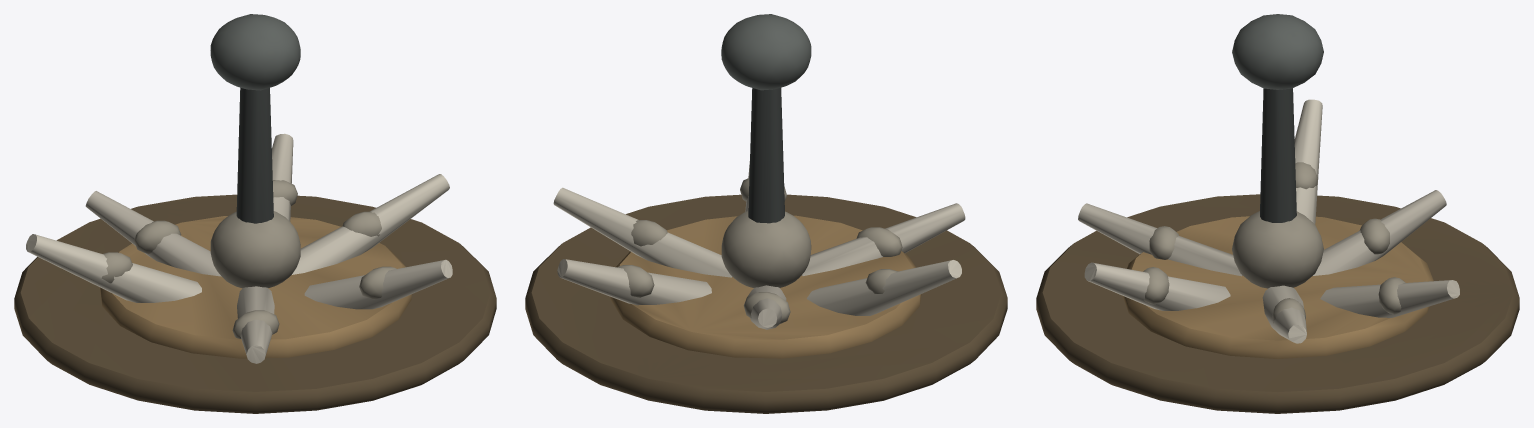
File: fulgurite_a.glb
The picture shows the model from 3 angles, left to right: view 1: azimuth 30°, elevation 25°; view 2: azimuth 150°, elevation 25°; view 3: azimuth 270°, elevation 25°; orthographic projection.
Visible parts, largest first — view 1: Surface; view 2: Surface; view 3: Surface.
Part boxes in pixels (left/top/right/bottom): Surface: left=14, top=14, right=496, bottom=413; Surface: left=525, top=14, right=1007, bottom=413; Surface: left=1036, top=14, right=1519, bottom=413.
Bounding box in the file's own units: 2.01 × 1.35 × 2.
